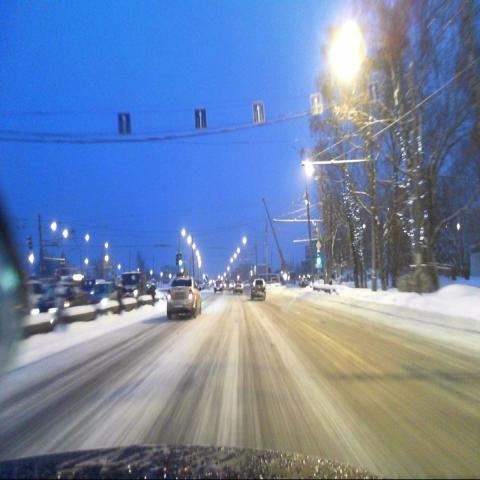5_15_2: (252, 100, 265, 125), (368, 78, 380, 99)
